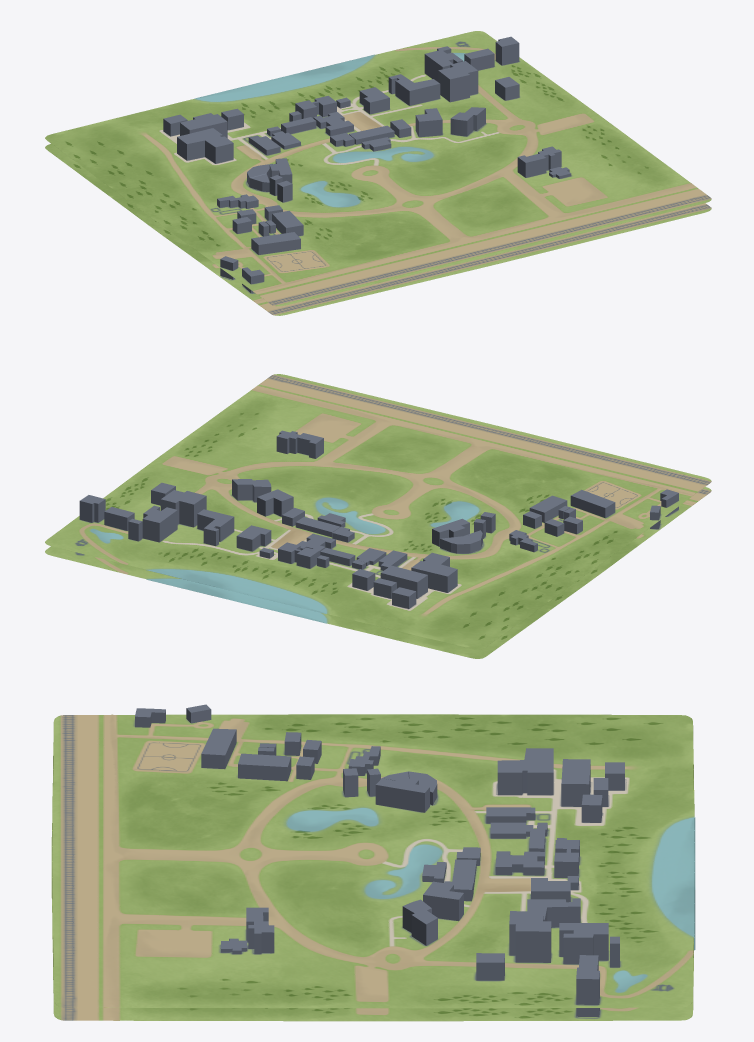
Rendered from mapa3d.fbx.
3 views of the same model, one above another, from view 1: azimuth 30°, elevation 25°; view 2: azimuth 150°, elevation 25°; view 3: azimuth 270°, elevation 25° (orthographic). The views are drawn at different scales.
Parts seen in each view (by area): view 1: pPlane21, pPlane1, pPlane11, pPlane8, pPlane19, pasted__pasted__pasted__pCube21, pPlane10, pasted__pCube1, pPlane9, pPlane12, pPlane4, pPlane6 (+4 smaller); view 2: pPlane21, pPlane1, pPlane11, pPlane9, pPlane8, pPlane19, pasted__pCube1, pasted__pasted__pasted__pCube21, pPlane12, pPlane4, pPlane10, pCylinder1 (+5 smaller); view 3: pPlane21, pPlane1, pPlane11, pPlane9, pPlane17, pasted__pasted__pasted__pCube20, pasted__pCube1, pPlane10, pPlane12, pPlane19, pasted__pasted__pasted__pCube21, pPlane8 (+13 smaller).
Part boxes in pixels (x1,y1,x2,y2): pPlane21: [45, 31, 711, 315]; pPlane1: [177, 128, 233, 163]; pPlane11: [438, 61, 478, 102]; pPlane8: [388, 74, 440, 105]; pPlane19: [517, 146, 561, 177]; pasted__pasted__pasted__pCube21: [251, 232, 300, 254]; pPlane10: [450, 107, 485, 136]; pasted__pCube1: [180, 114, 227, 138]; pPlane9: [424, 50, 463, 81]; pPlane12: [415, 108, 442, 137]; pPlane4: [295, 95, 336, 118]; pPlane6: [359, 87, 389, 114]; pPlane21: [45, 374, 711, 658]; pPlane1: [411, 552, 457, 592]; pPlane11: [160, 490, 206, 527]; pPlane9: [142, 505, 177, 542]; pPlane8: [197, 509, 234, 546]; pPlane19: [276, 430, 323, 458]; pasted__pCube1: [380, 565, 427, 598]; pasted__pasted__pasted__pCube21: [570, 489, 615, 518]; pPlane12: [257, 489, 293, 516]; pPlane4: [278, 542, 319, 568]; pPlane10: [232, 479, 271, 502]; pCylinder1: [440, 530, 482, 553]; pPlane21: [51, 714, 695, 1021]; pPlane1: [497, 748, 553, 795]; pPlane11: [509, 911, 551, 962]; pPlane9: [559, 923, 608, 964]; pPlane17: [375, 777, 429, 812]; pasted__pasted__pasted__pCube20: [238, 753, 291, 781]; pasted__pCube1: [561, 759, 590, 806]; pPlane10: [402, 899, 437, 945]; pPlane12: [423, 881, 463, 921]; pPlane19: [246, 907, 274, 954]; pasted__pasted__pasted__pCube21: [201, 728, 236, 769]; pPlane8: [527, 898, 580, 927].
Size of the model in its own units: 40.07 by 2.7 by 40.1.
Materials: 2 (1 with a texture image).
